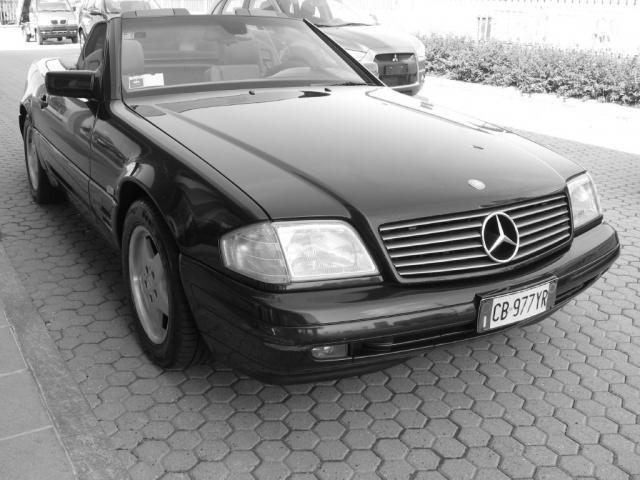car: (18, 8, 620, 384)
